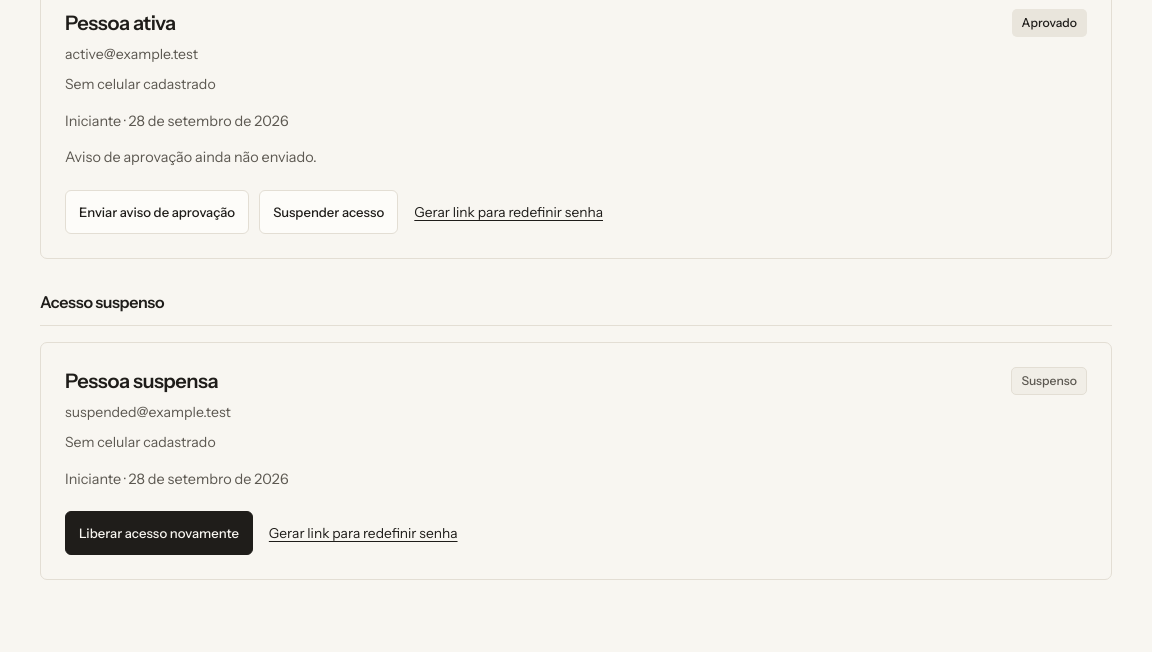
Test: suspended accounts offer an explicit restore action
The width and height of the screenshot is (1152, 652).
(page scrolled)
Click the button "Liberar acesso novamente".
click(159, 534)  # box x1=65 y1=512 x2=253 y2=556
(page scrolled)
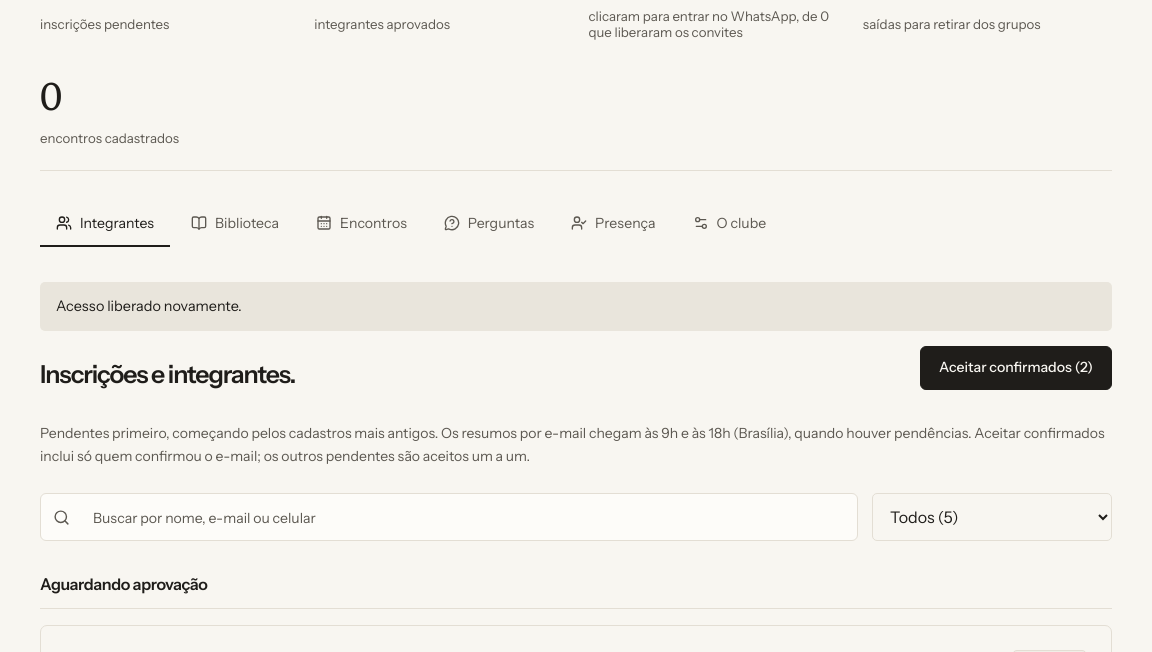
Result: the message reads "Acesso liberado novamente." at x1=56 y1=297 x2=242 y2=315
